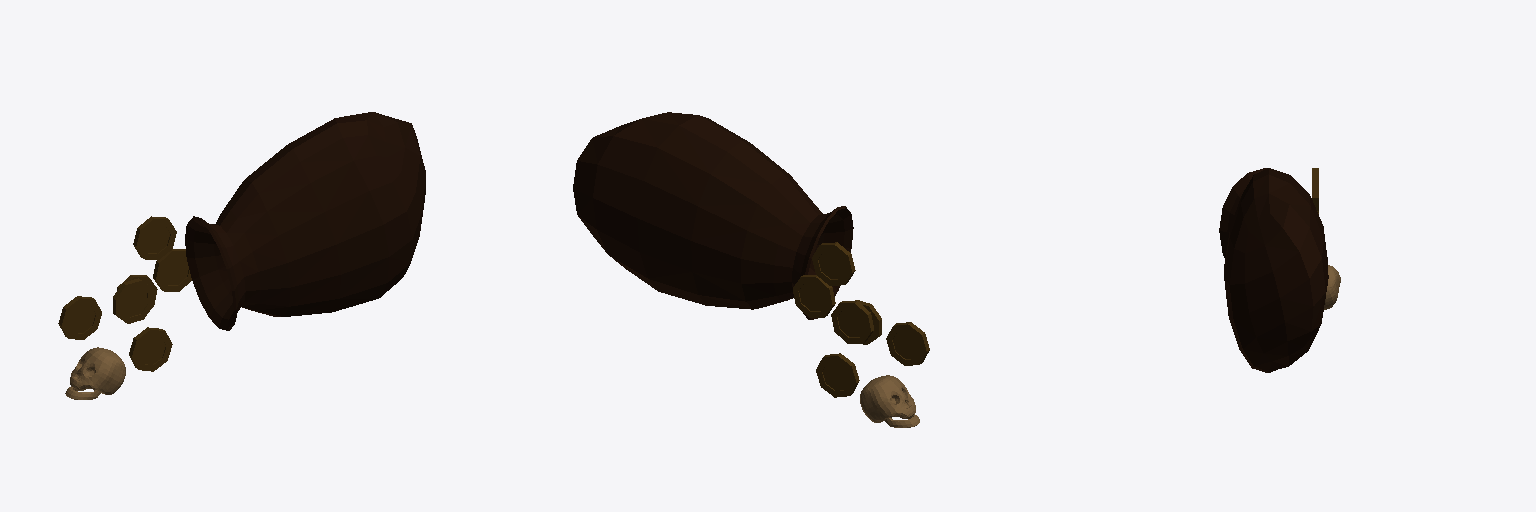
The model's file is Skull_Cylinder.obj.
3 views of the same model, side by side, from view 1: azimuth 30°, elevation 25°; view 2: azimuth 150°, elevation 25°; view 3: azimuth 270°, elevation 25° (orthographic).
Visible parts, largest first — view 1: Bag_Coins_Cylinder.001, Skull_Cylinder.000; view 2: Bag_Coins_Cylinder.001, Skull_Cylinder.000; view 3: Bag_Coins_Cylinder.001.
Boxes of the visible parts, <box> form: Bag_Coins_Cylinder.001: <box>58,112,425,371</box>; Skull_Cylinder.000: <box>65,347,125,399</box>; Bag_Coins_Cylinder.001: <box>573,112,929,397</box>; Skull_Cylinder.000: <box>860,375,919,427</box>; Bag_Coins_Cylinder.001: <box>1219,168,1328,372</box>.
Size of the model in its own units: 3.95 by 2.51 by 1.17.